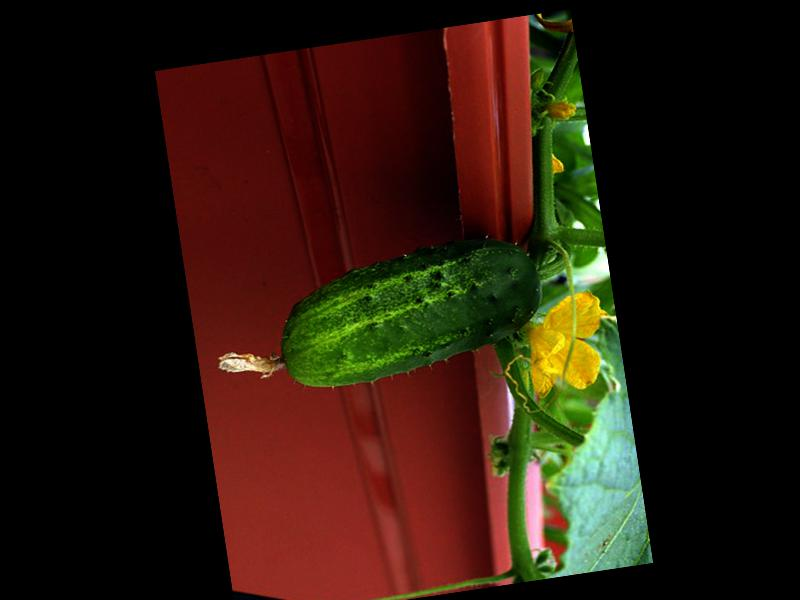Cucumber: (203, 230, 552, 405)
